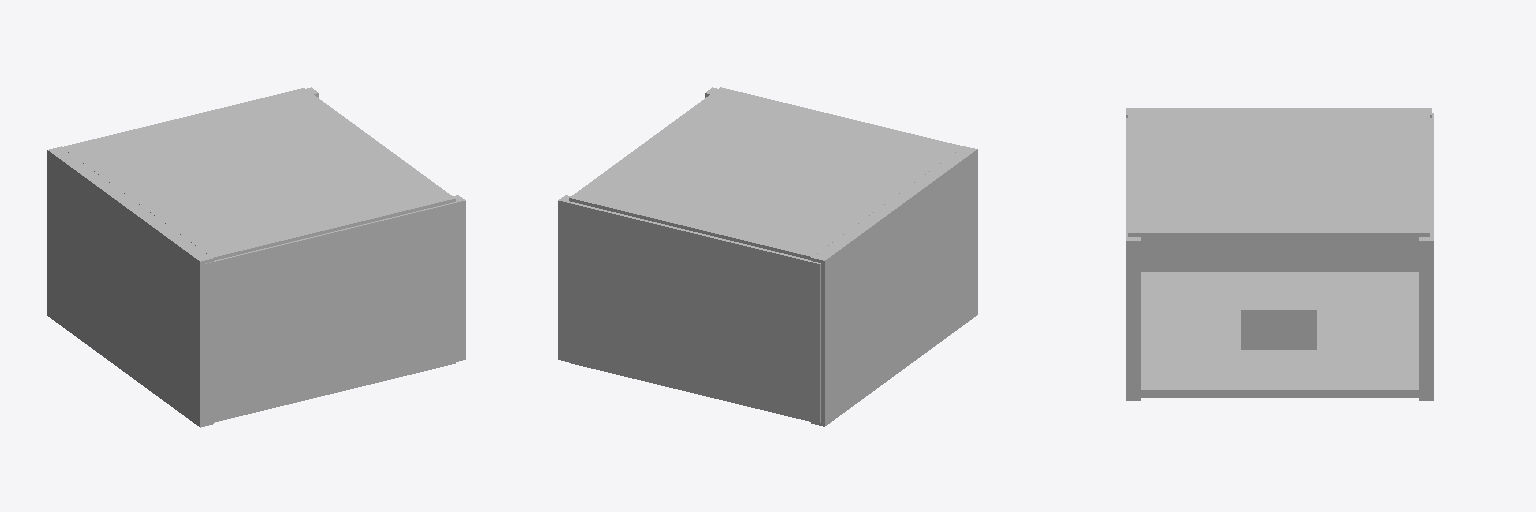
File: cell3.1.hb.obj
The picture shows the model from 3 angles: view 1: azimuth 30°, elevation 25°; view 2: azimuth 150°, elevation 25°; view 3: azimuth 270°, elevation 25°; orthographic projection.
Visible parts, largest first — view 1: Cube.004_Cube.009, floor.002_Cube.005, Cube.006_Cube.011; view 2: Cube.005_Cube.010, floor.002_Cube.005, Cube.006_Cube.011; view 3: floor.002_Cube.005, floor.003_Cube.008, Cube.006_Cube.011, Cube.003_Cube.007, Cube.005_Cube.010, Cube.004_Cube.009.
Part boxes in pixels (left/top/right/bottom): Cube.004_Cube.009: left=204, top=195, right=465, bottom=423; floor.002_Cube.005: left=62, top=88, right=455, bottom=260; Cube.006_Cube.011: left=47, top=146, right=213, bottom=427; Cube.005_Cube.010: left=558, top=195, right=820, bottom=423; floor.002_Cube.005: left=569, top=87, right=963, bottom=259; Cube.006_Cube.011: left=811, top=146, right=977, bottom=426; floor.002_Cube.005: left=1128, top=115, right=1429, bottom=241; floor.003_Cube.008: left=1141, top=272, right=1418, bottom=397; Cube.006_Cube.011: left=1126, top=108, right=1431, bottom=271; Cube.003_Cube.007: left=1241, top=272, right=1316, bottom=349; Cube.005_Cube.010: left=1419, top=113, right=1433, bottom=400; Cube.004_Cube.009: left=1126, top=118, right=1140, bottom=400.
Size of the model in its own units: 13.1 by 7.83 by 13.19.